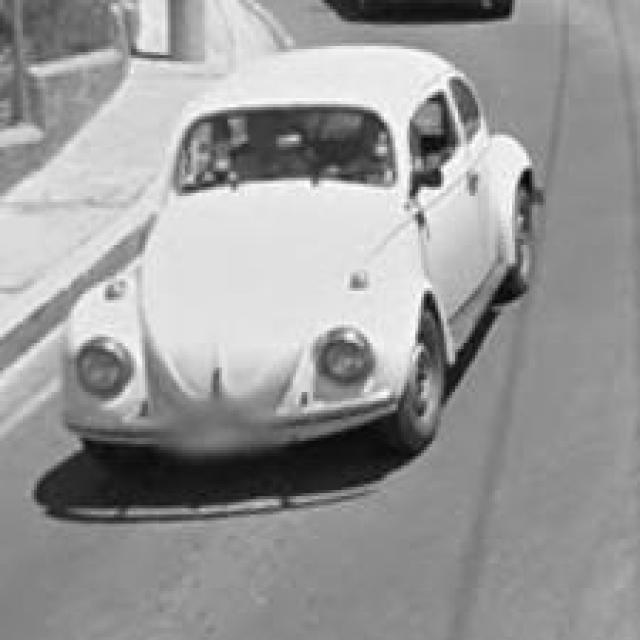car: (71, 49, 532, 478)
